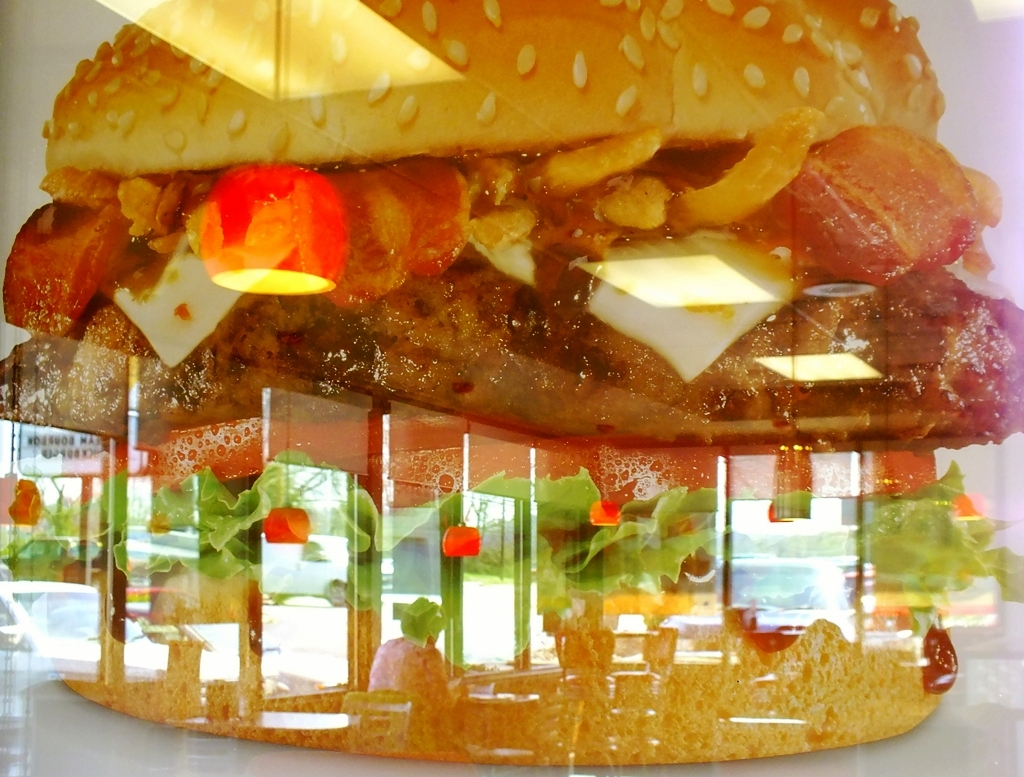Hamburger: (5, 0, 1022, 761)
